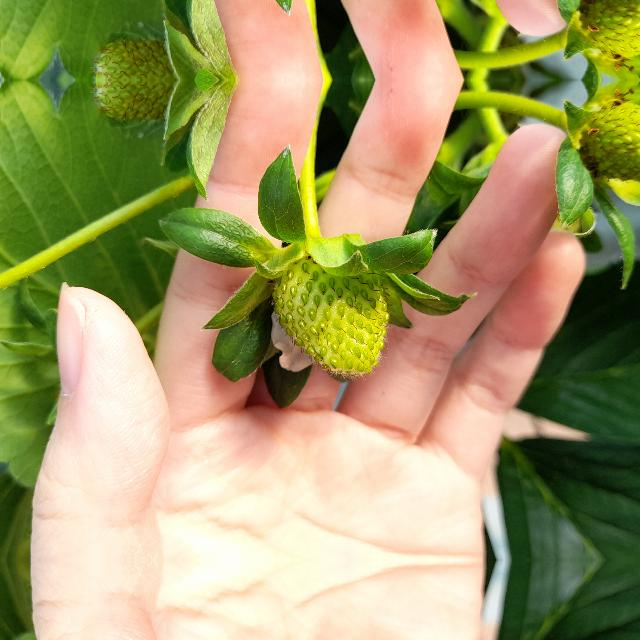Health_25: (271, 251, 389, 377), (577, 88, 639, 178), (577, 0, 639, 72)
